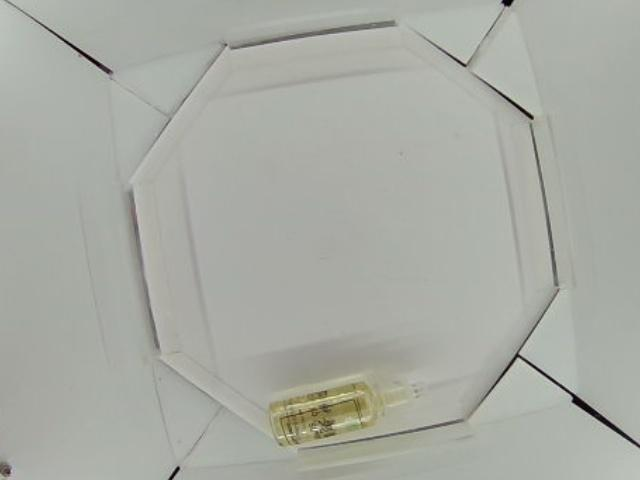Bottle: (265, 369, 429, 447)
